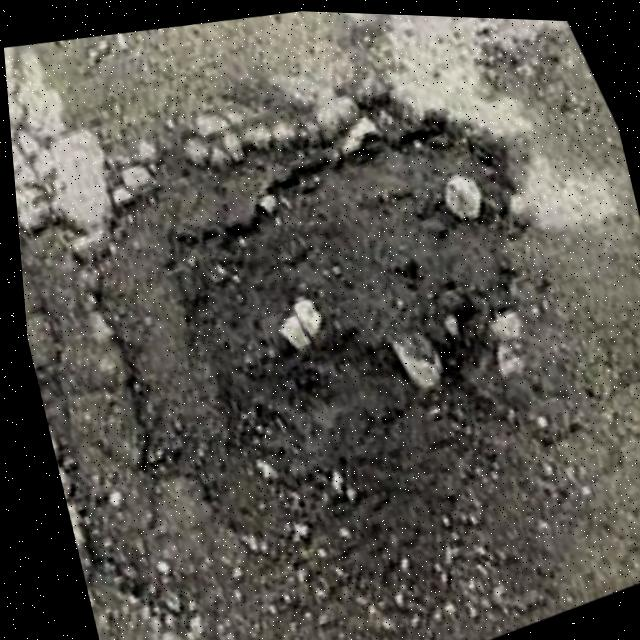Pothole: (57, 7, 640, 640), (376, 11, 534, 27)
